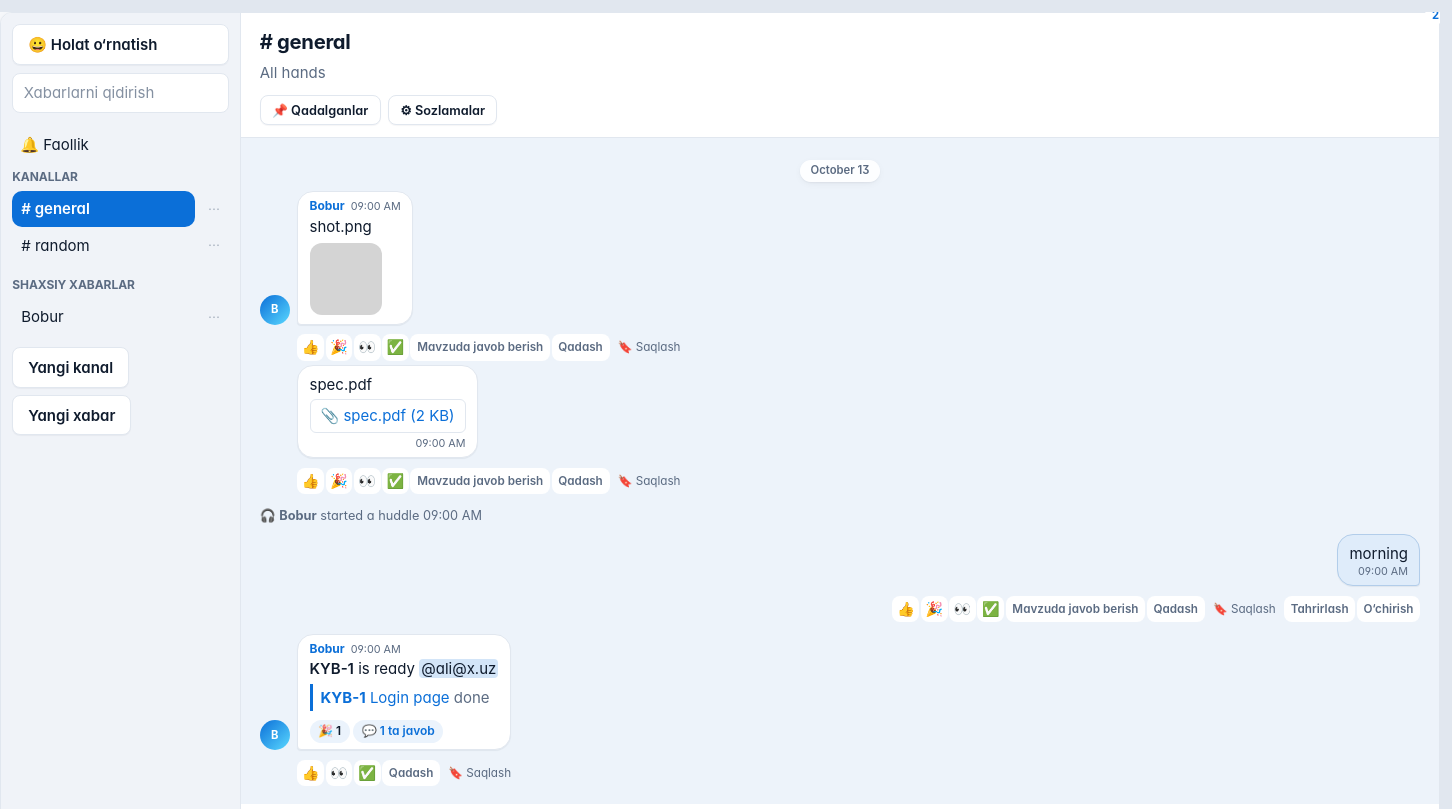
Scenario: Chat pins and search (S54a) › shows its built-in labels in the user's language (S97)
Check: the heading "Kanallar" is shown, box left=12, top=169, right=78, bottom=184
Check: the heading "Shaxsiy xabarlar" is shown, box left=12, top=277, right=135, bottom=292
Step 1. Click the button "😀 Holat o‘rnatish" → click(121, 44), box left=12, top=24, right=229, bottom=65
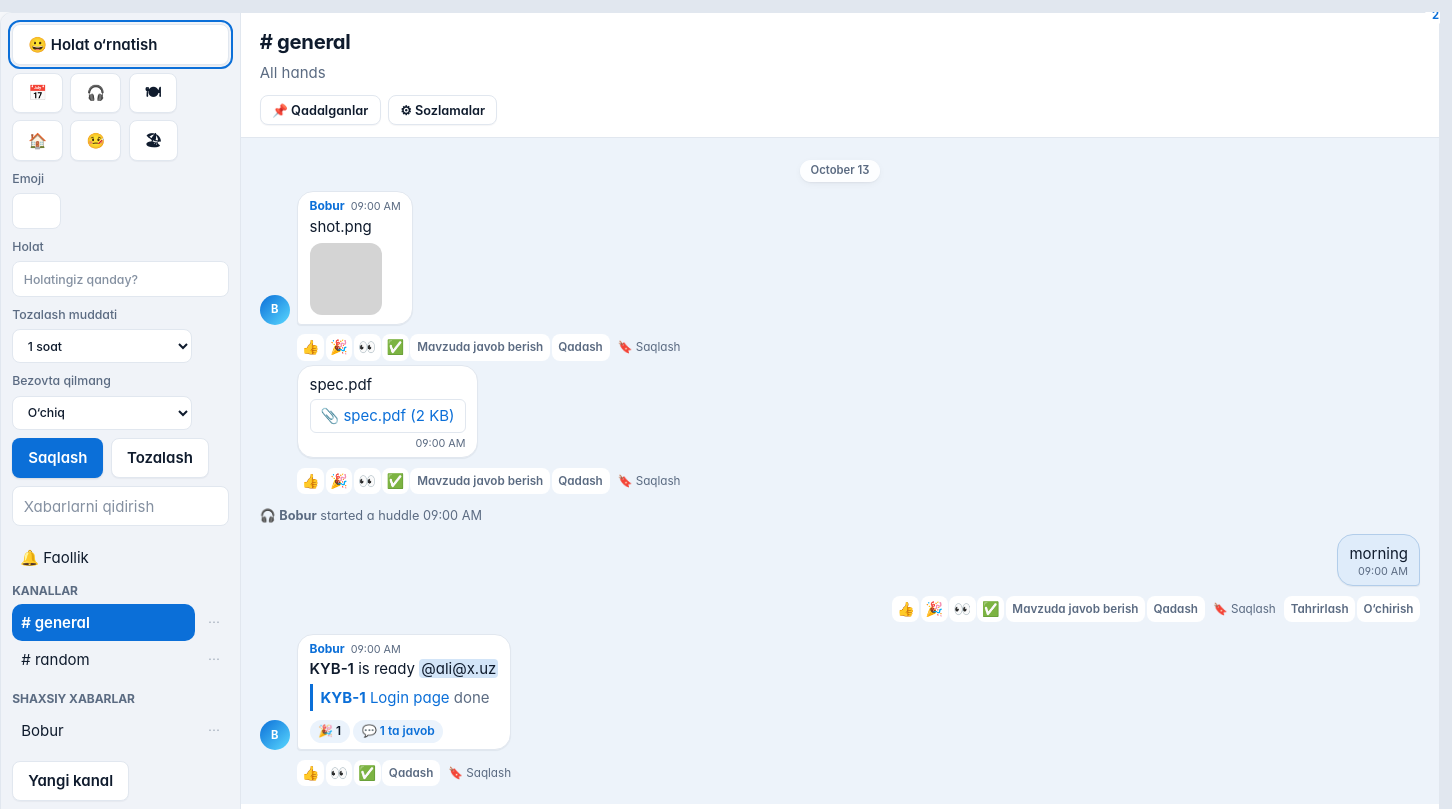
Step 2. Click the button titled "Tushlik" → click(153, 93), box left=129, top=72, right=177, bottom=113
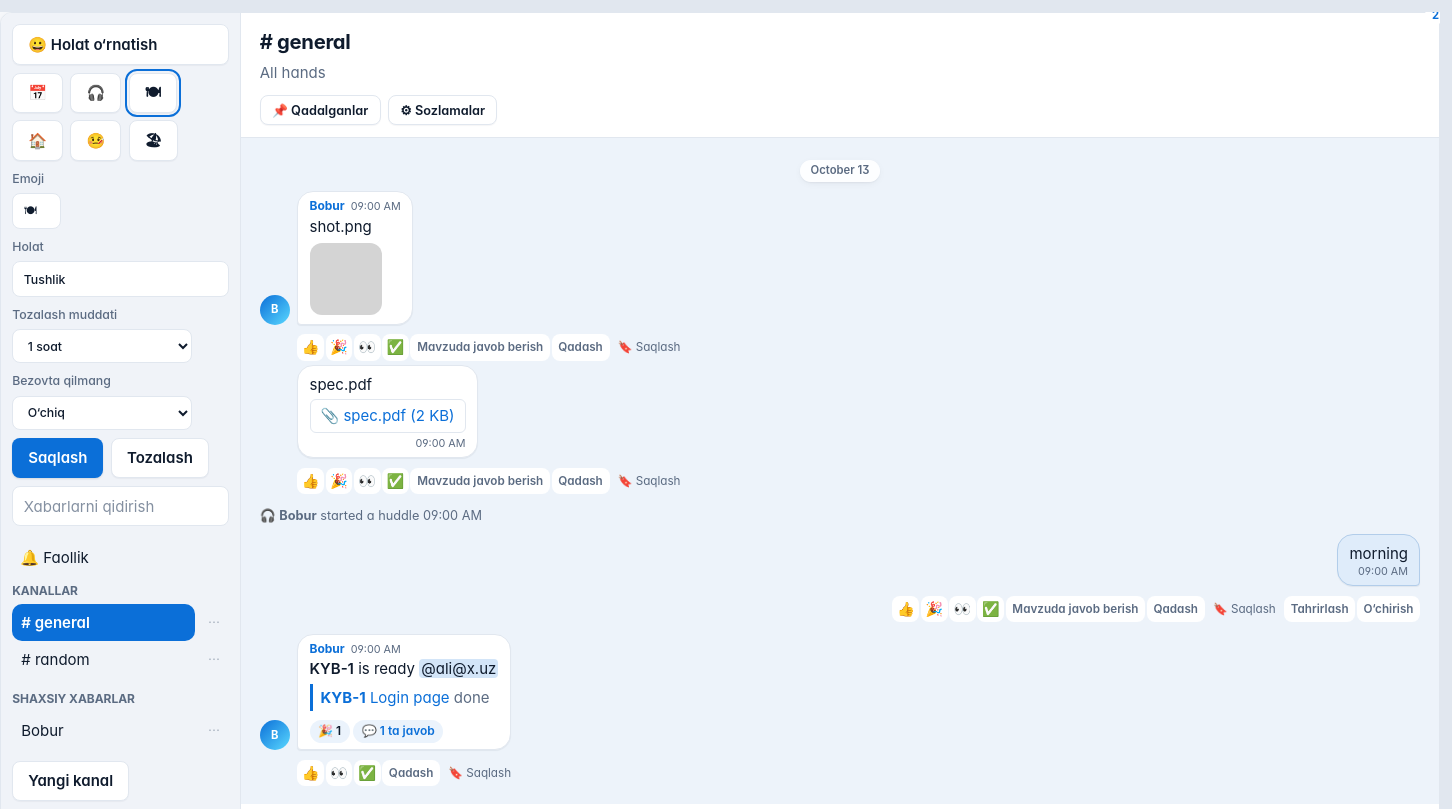
Check: the field showing "Tushlik" is shown, box left=12, top=261, right=229, bottom=297
